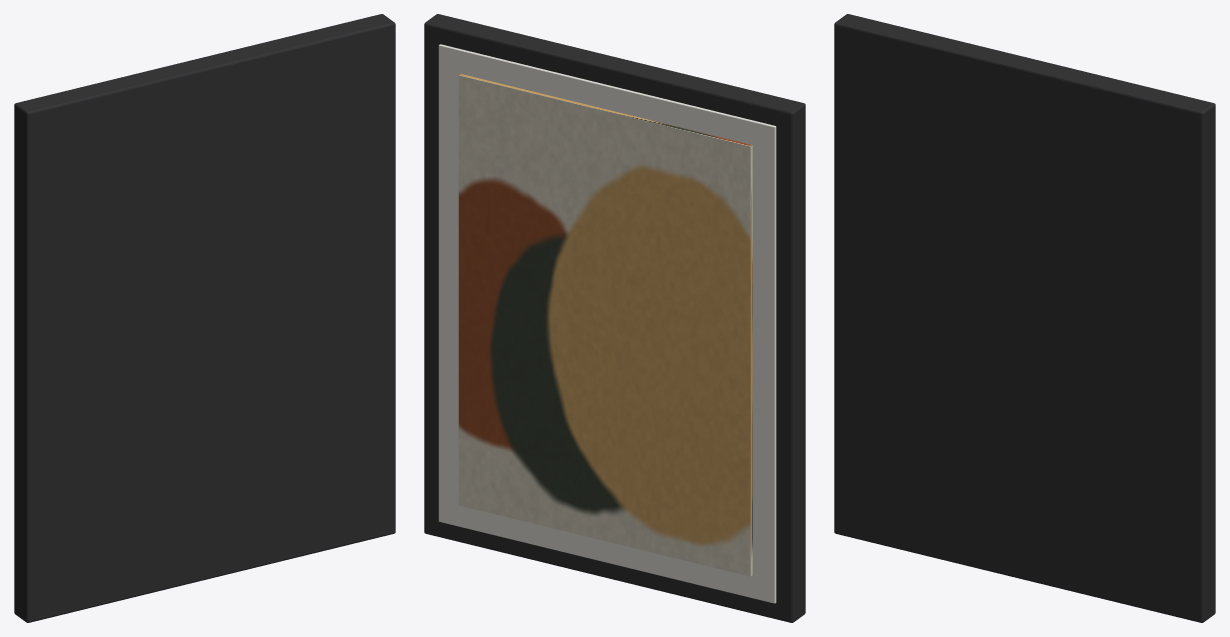
File: corridor_art_0.glb
3 renders of one model, left to right at view 1: azimuth 30°, elevation 25°; view 2: azimuth 150°, elevation 25°; view 3: azimuth 330°, elevation 25°, orthographic.
Parts seen in each view (by area): view 1: corridor_art_0; view 2: corridor_art_0; view 3: corridor_art_0.
Part boxes in pixels (x1,y1,x2,y2): corridor_art_0: [14, 14, 395, 622]; corridor_art_0: [424, 14, 805, 622]; corridor_art_0: [834, 14, 1215, 622].
Bounding box in the file's own units: 0.62 × 0.82 × 0.05.
3 materials, 1 textured.
